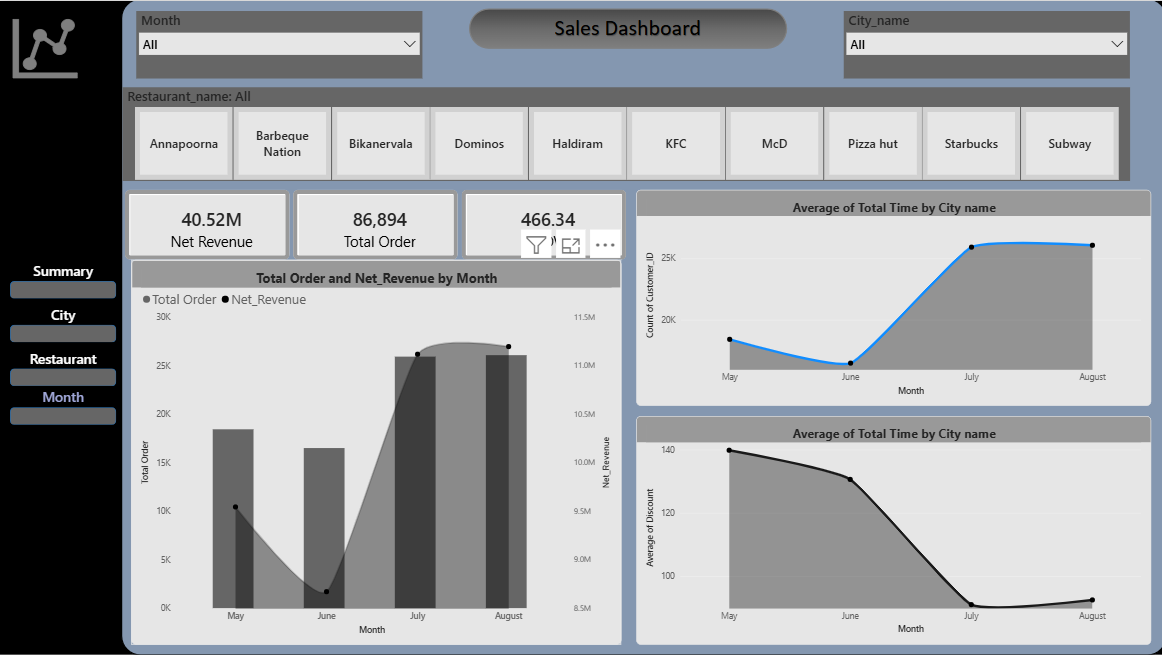

What the dashboard file says about the page in this screenshot:
{"tool":"powerbi","page":{"name":"Month","canvas":[1920,1080],"ordinal":3},"visuals":[{"type":"slicer","fields":{"Values":["order details.Date.Variation.Date Hierarchy.Month"]},"box":[224.4,16.5,471.4,111.1],"z":0},{"type":"slicer","fields":{"Values":["city details.City_name"]},"box":[1389.4,16.5,471.4,111.1],"z":1000},{"type":"slicer","fields":{"Values":["city details.Restaurant_name"]},"box":[201.7,142,1659,154.4],"z":2000},{"type":"cardVisual","title":"Net Revenue","fields":{"Data":["order details.KPI Net Revenue_2","order details.KPI Total Order","order details.KPI AOV"]},"box":[205.8,310.8,825.4,115.3],"z":3000},{"type":"shape","title":"Summary","box":[16.5,428.1,175,61.7],"z":4000},{"type":"shape","title":"City","box":[16.5,500.2,175,61.7],"z":5000},{"type":"shape","title":"Restaurant","box":[16.5,572.2,175,61.7],"z":6000},{"type":"shape","title":"Month","box":[16.5,636,175,61.7],"z":7000},{"type":"lineStackedColumnComboChart","fields":{"Category":["order details.Date.Variation.Date Hierarchy.Month"],"Y":["order details.Total Order"],"Y2":["order details.Net_Revenue"]},"box":[216.1,426.1,806.9,634],"z":7001},{"type":"lineChart","title":"Average of Total Time by City name","fields":{"Category":["order details.Date.Variation.Date Hierarchy.Month"],"Y":["CountNonNull(customer details.Customer_ID)"]},"box":[1047.7,310.8,848,356.1],"z":7002},{"type":"lineChart","title":"Average of Total Time by City name","fields":{"Category":["order details.Date.Variation.Date Hierarchy.Month"],"Y":["Avg(order details.Discount)"]},"box":[1047.7,683.4,848,376.7],"z":7003}]}

Visuals, with their boxes on the page's 1920x1080 design canvas (x1, y1, x2, y2). These are canvas units, not pixel positions in the 1162x655 screenshot, which may show the page scaled, cropped or inside an application window:
slicer - order details.Date.Variation.Date Hierarchy.Month: bbox(224, 16, 696, 128)
slicer - city details.City_name: bbox(1389, 16, 1861, 128)
slicer - city details.Restaurant_name: bbox(202, 142, 1861, 296)
"Net Revenue" cardVisual: bbox(206, 311, 1031, 426)
"Summary" shape: bbox(16, 428, 192, 490)
"City" shape: bbox(16, 500, 192, 562)
"Restaurant" shape: bbox(16, 572, 192, 634)
"Month" shape: bbox(16, 636, 192, 698)
lineStackedColumnComboChart - order details.Date.Variation.Date Hierarchy.Month x order details.Total Order: bbox(216, 426, 1023, 1060)
"Average of Total Time by City name" lineChart: bbox(1048, 311, 1896, 667)
"Average of Total Time by City name" lineChart: bbox(1048, 683, 1896, 1060)
